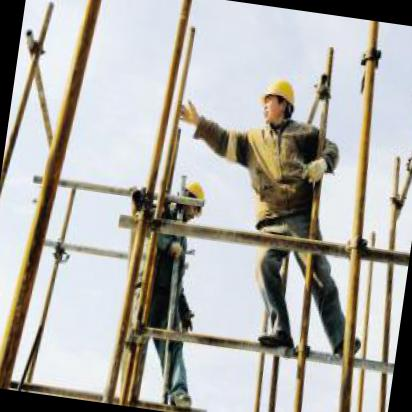helmet: (259, 75, 298, 110), (182, 178, 207, 206)
